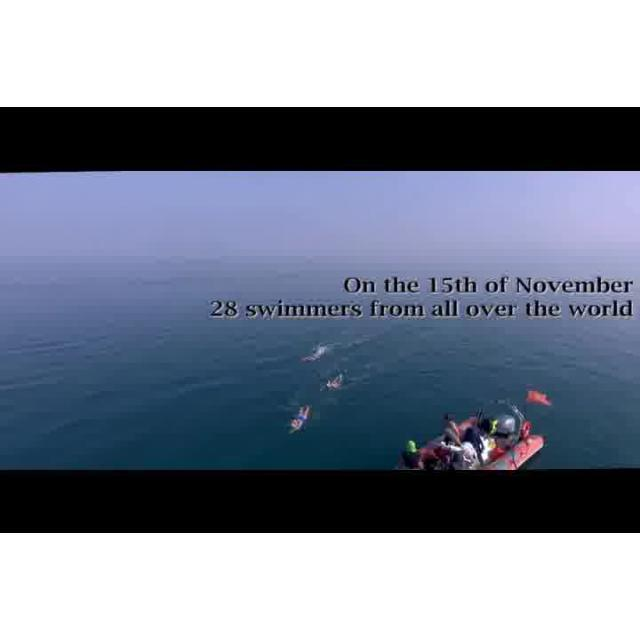human: (289, 404, 311, 435), (322, 372, 346, 392)
